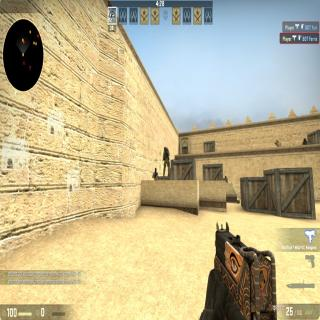CT-Body: (162, 146, 171, 176)
CT-Head: (163, 146, 166, 150)
T-Body: (152, 167, 158, 180)
T-Head: (154, 167, 157, 173)
